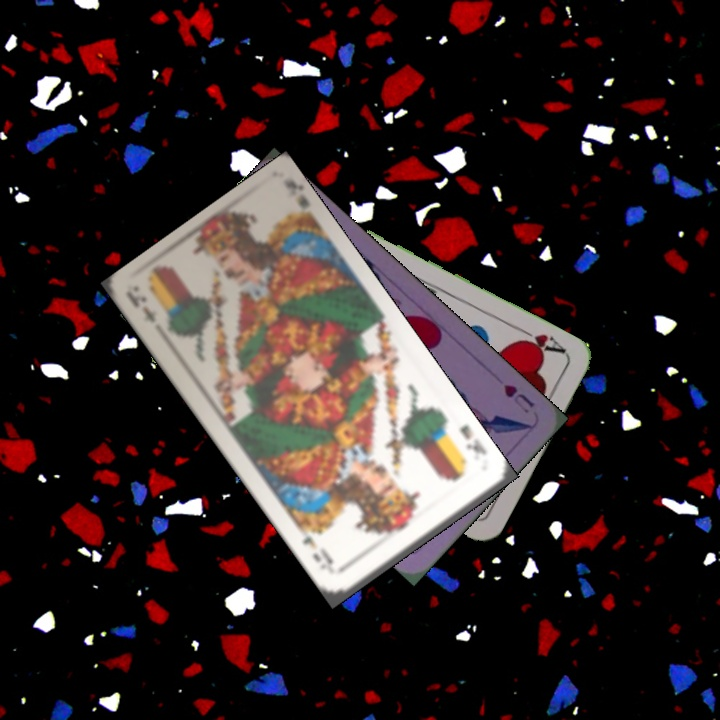EK: (455, 420, 490, 458), (125, 290, 158, 326)
HA: (514, 322, 569, 357)
HU: (499, 380, 537, 416)
